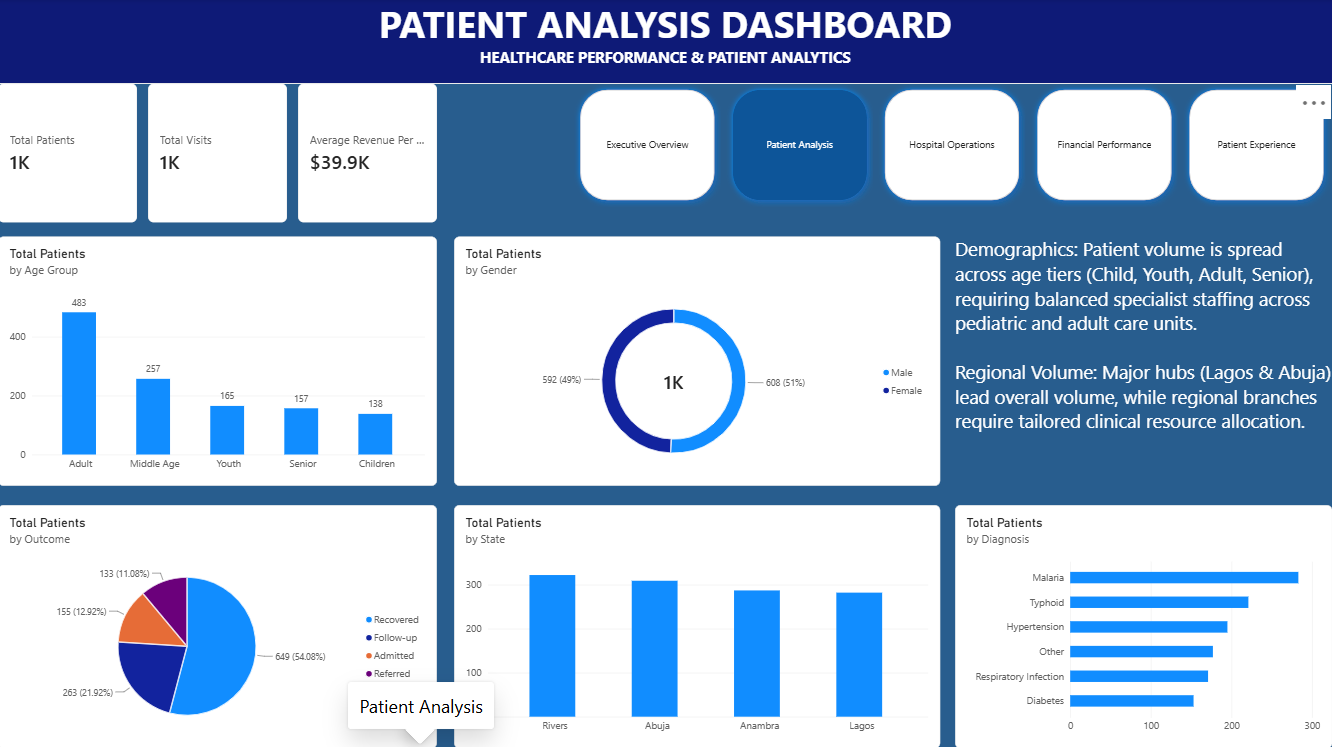

This screenshot's page, from the dashboard's own definition file:
{"tool":"powerbi","page":{"name":"Patient Analysis","canvas":[1920,1080],"ordinal":1},"visuals":[{"type":"cardVisual","fields":{"Data":["_Measure.Total Patients"]},"box":[0,122.8,200,200],"z":0},{"type":"cardVisual","fields":{"Data":["_Measure.Total Visits"]},"box":[215.8,122.7,200,200],"z":1000},{"type":"cardVisual","fields":{"Data":["_Measure.Average Revenue Per Patient"]},"box":[431.5,122.7,200,200],"z":2000},{"type":"clusteredColumnChart","fields":{"Category":["Patient_Visits.Age Group"],"Y":["_Measure.Total Patients"]},"box":[0,343,631.4,358.9],"z":3000},{"type":"donutChart","fields":{"Category":["Patient_Visits.Gender"],"Y":["_Measure.Total Patients"]},"box":[656.4,343,699.6,358.9],"z":4000},{"type":"clusteredBarChart","fields":{"Category":["Patient_Visits.Diagnosis"],"Y":["_Measure.Total Patients"]},"box":[1376.4,729.1,542.8,349.8],"z":5000},{"type":"clusteredColumnChart","fields":{"Category":["Patient_Visits.State"],"Y":["_Measure.Total Patients"]},"box":[656.4,729.1,699.6,349.8],"z":6000},{"type":"pieChart","fields":{"Category":["Patient_Visits.Outcome"],"Y":["_Measure.Total Patients"]},"box":[0,729.1,631.4,349.8],"z":7000},{"type":"textbox","box":[1376.4,343,542.8,358.9],"z":8000},{"type":"pageNavigator","box":[829,122.7,1090.2,177.2],"z":9000},{"type":"textbox","box":[0,0,1919.3,122.7],"z":10000}]}

Visuals, with their boxes in screenshot pixels (x1, y1, x2, y2), scaled from the page's 1920x1080 canvas onto the 1332x747 screenshot:
cardVisual - _Measure.Total Patients: x1=0, y1=85, x2=139, y2=223
cardVisual - _Measure.Total Visits: x1=150, y1=85, x2=288, y2=223
cardVisual - _Measure.Average Revenue Per Patient: x1=299, y1=85, x2=438, y2=223
clusteredColumnChart - Patient_Visits.Age Group x _Measure.Total Patients: x1=0, y1=237, x2=438, y2=485
donutChart - Patient_Visits.Gender x _Measure.Total Patients: x1=455, y1=237, x2=941, y2=485
clusteredBarChart - Patient_Visits.Diagnosis x _Measure.Total Patients: x1=955, y1=504, x2=1331, y2=746
clusteredColumnChart - Patient_Visits.State x _Measure.Total Patients: x1=455, y1=504, x2=941, y2=746
pieChart - Patient_Visits.Outcome x _Measure.Total Patients: x1=0, y1=504, x2=438, y2=746
textbox: x1=955, y1=237, x2=1331, y2=485
pageNavigator: x1=575, y1=85, x2=1331, y2=207
textbox: x1=0, y1=0, x2=1331, y2=85
